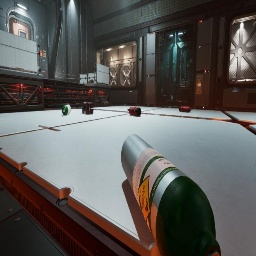0: (121, 134, 221, 256), (62, 104, 71, 116), (83, 82, 86, 84)
EmergencyPhone ,: (42, 48, 46, 58), (145, 86, 148, 93), (44, 52, 45, 53), (147, 89, 147, 89)
FireAlarm ,: (40, 50, 43, 57)
FireExtinguisher ]: (127, 107, 141, 117), (179, 106, 194, 112)
FirstAidBox ,: (82, 102, 94, 114)
NitrogenTank ,: (102, 102, 110, 107), (88, 79, 94, 84), (0, 66, 3, 68)
SafetySwitchPanel ,: (196, 75, 203, 94)
